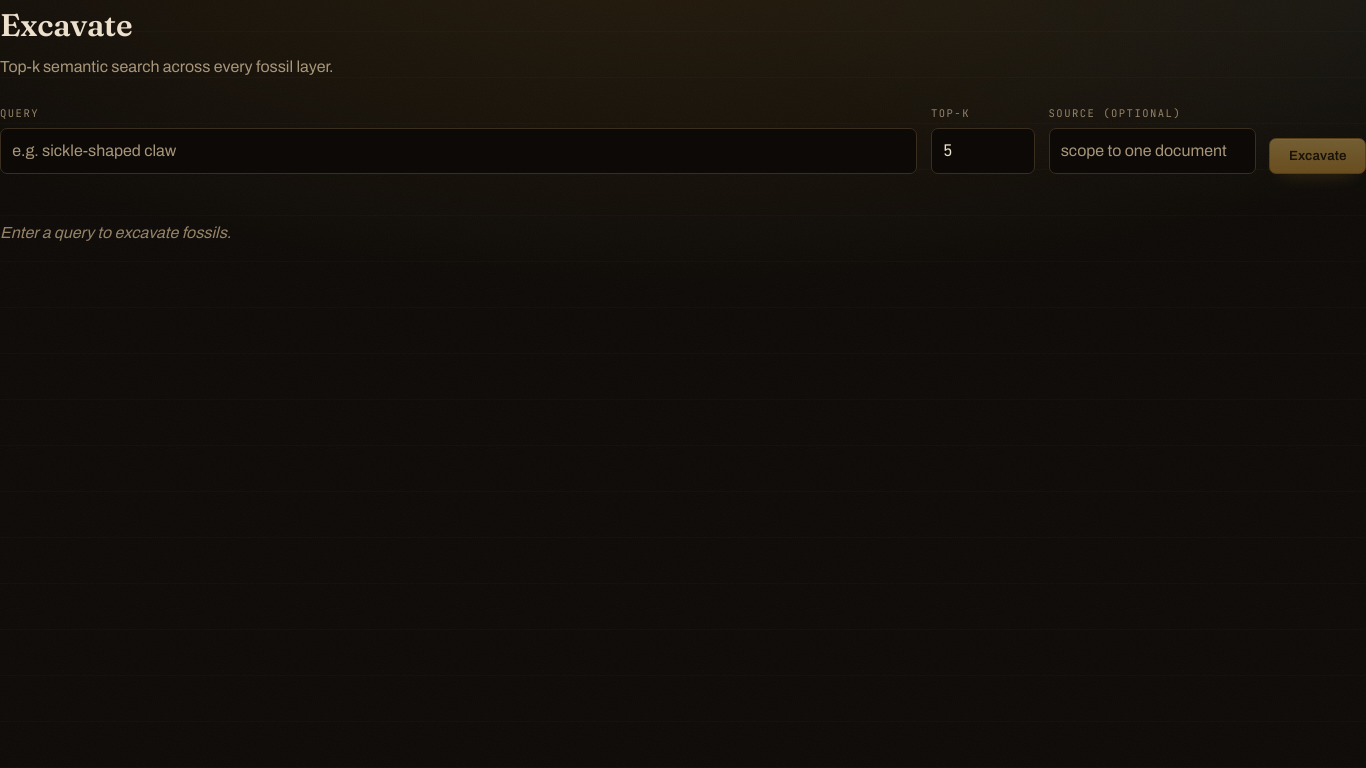
it: ExcavatePanel › renders excavated fossils with score, age and source
Type "sickle claw" into the field labelled "Query" at [459, 151], box [0,128,917,174]
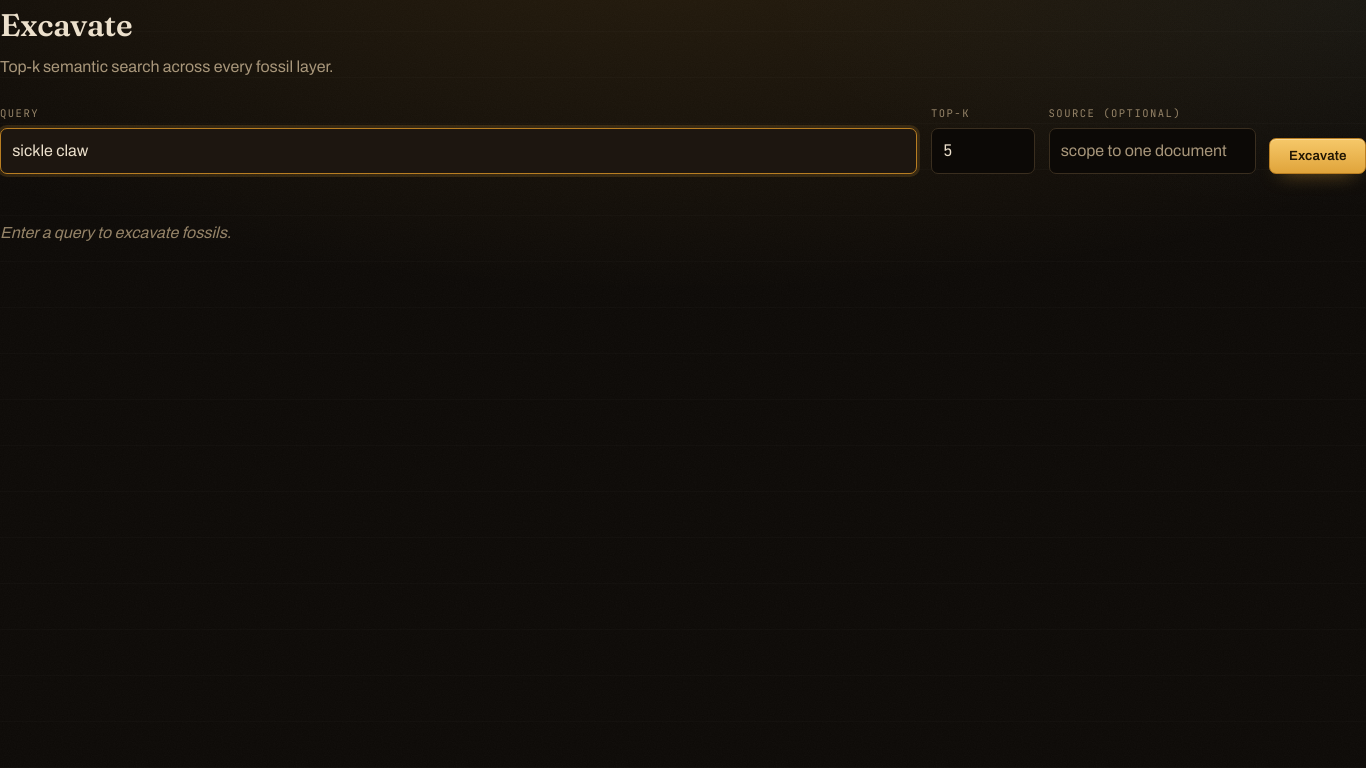
Click the button "Excavate" at [1318, 156], box [1270,138,1365,174]
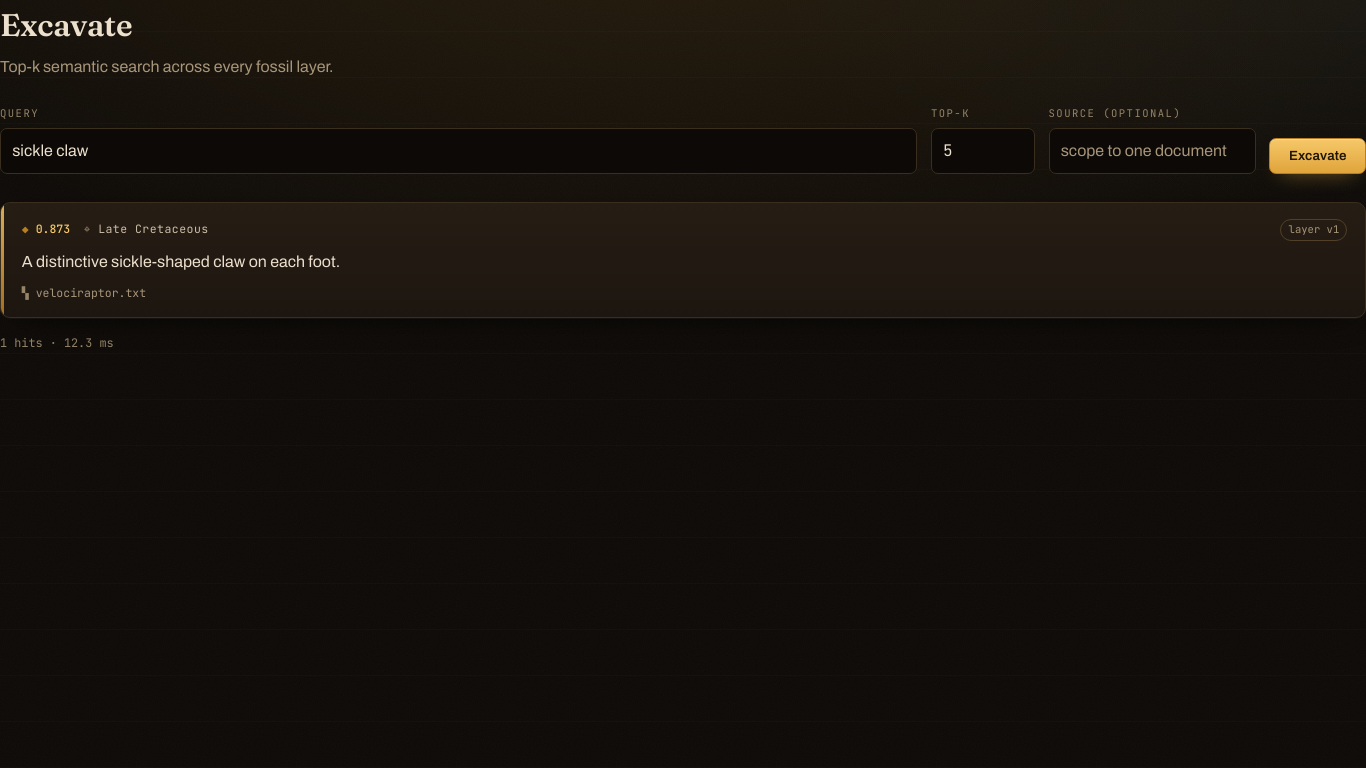
Check: the text "A distinctive sickle-shaped claw on each foot." is shown, box [22,253,340,270]
Check: the text "0.873" is shown, box [22,220,70,239]
Check: the text "Late Cretaceous" is shown, box [84,220,209,239]
